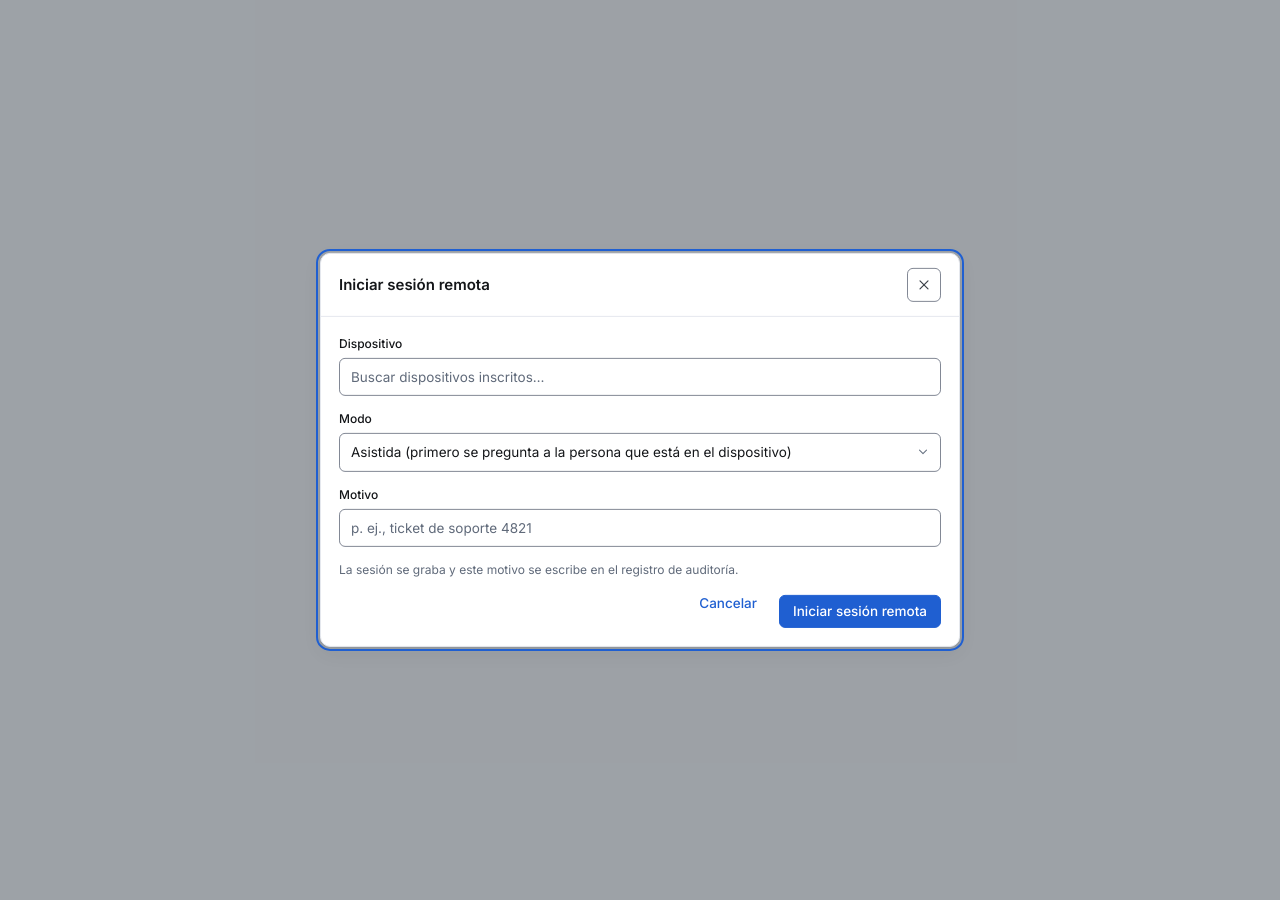
Test: the Start session dialog, in Spanish › confirms before starting on a device that cannot answer
The width and height of the screenshot is (1280, 900).
Click the dropdown labelled "Dispositivo": (640, 377) x1=339 y1=358 x2=941 y2=396
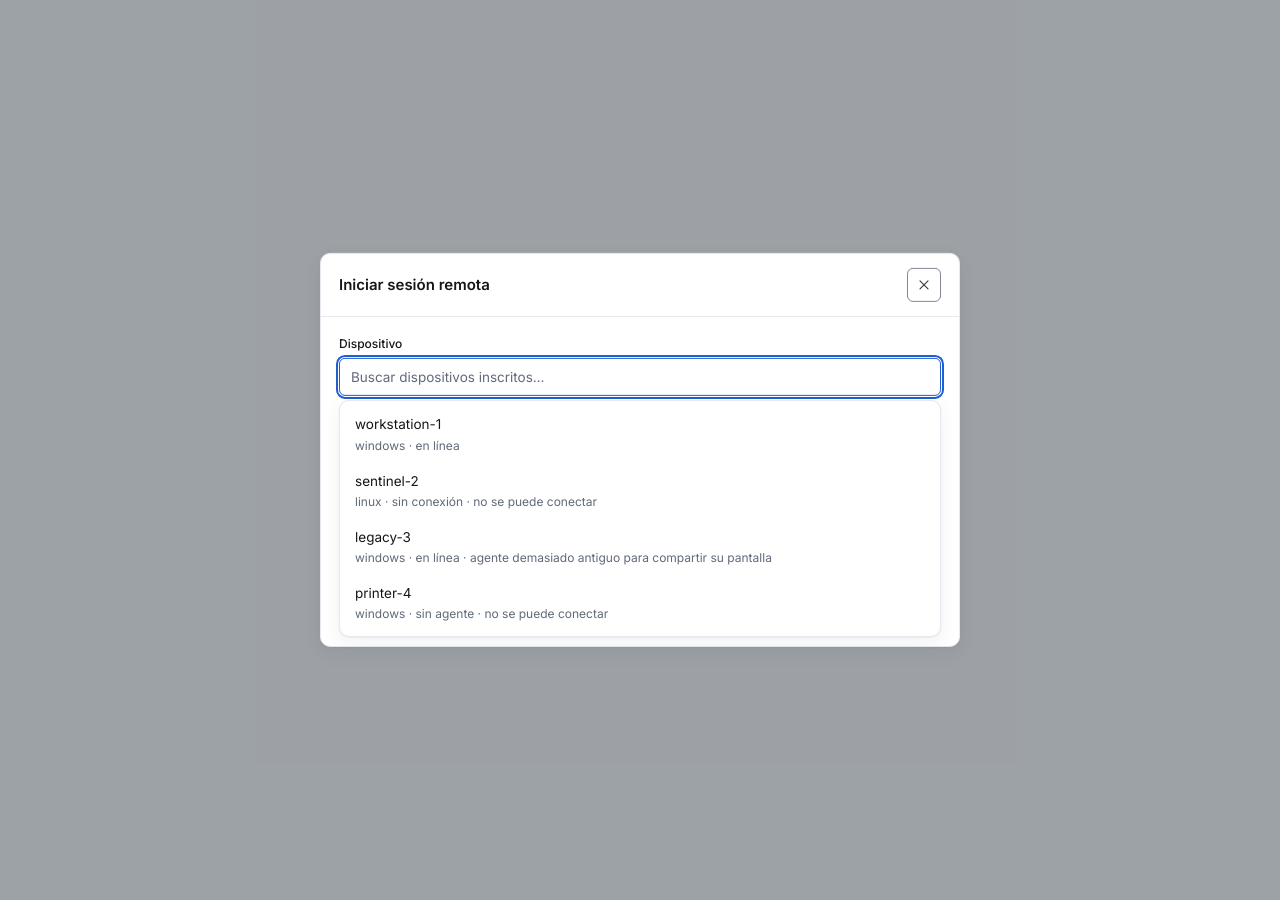
Click the option "sentinel-2 linux · sin conexión · no se puede conectar": (387, 480) x1=345 y1=462 x2=935 y2=519
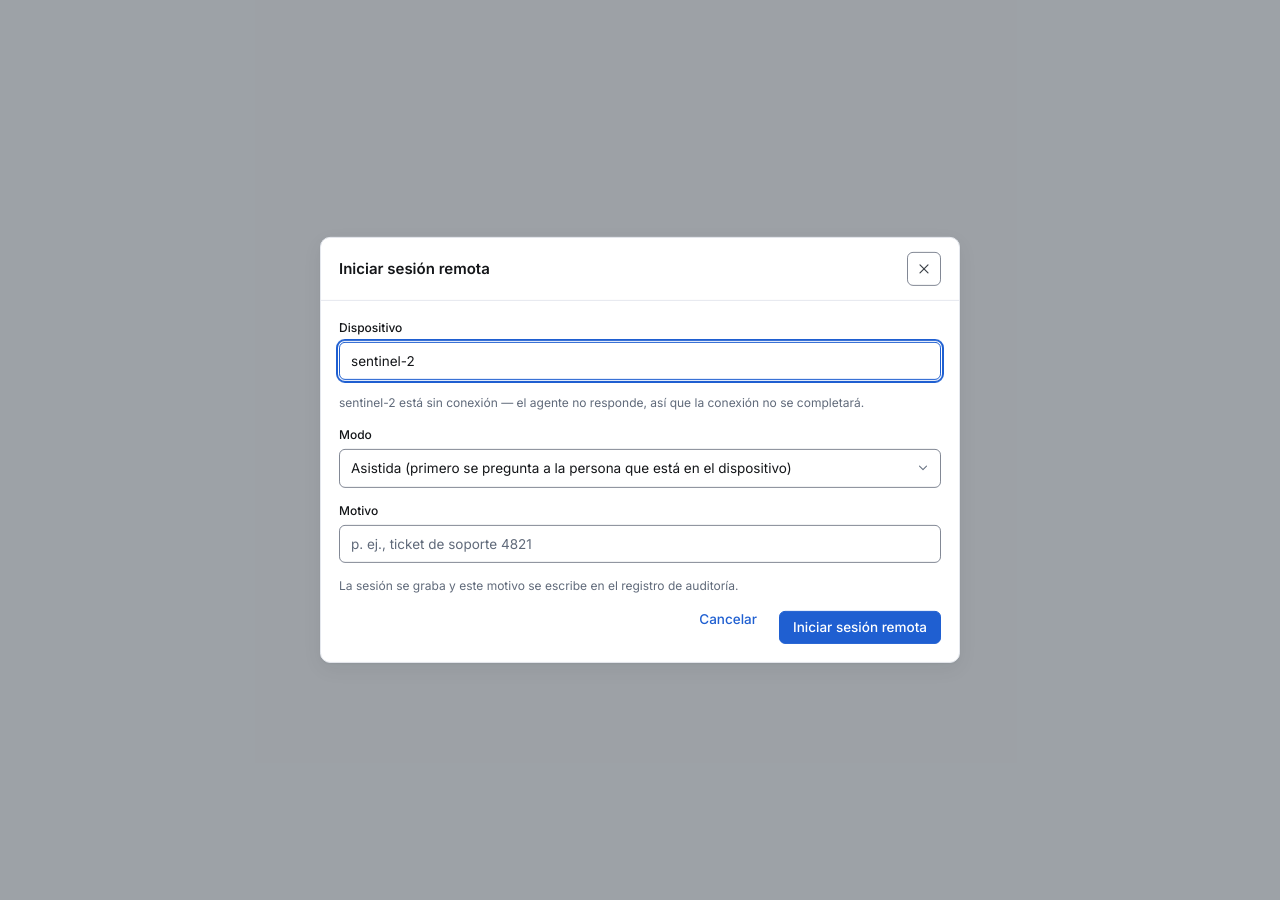
In the field labelled "Motivo": (640, 544) x1=339 y1=524 x2=941 y2=563, type "INC-4821"
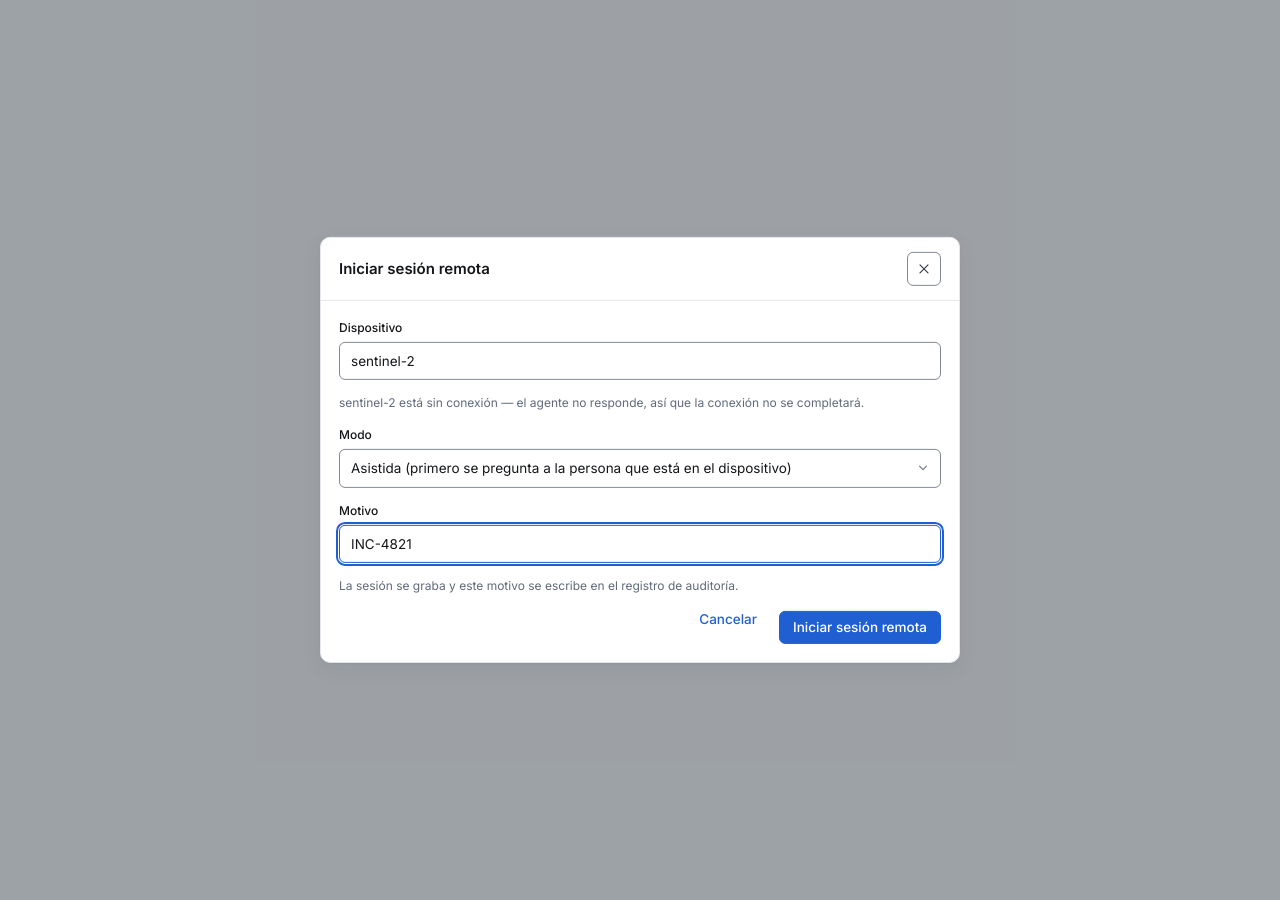
Check: the message shows "sentinel-2 está sin conexión — el agente no responde, así que la conexión no se completará.", box x1=339 y1=395 x2=864 y2=410
Click the button "Iniciar sesión remota": (860, 627) x1=779 y1=611 x2=941 y2=644
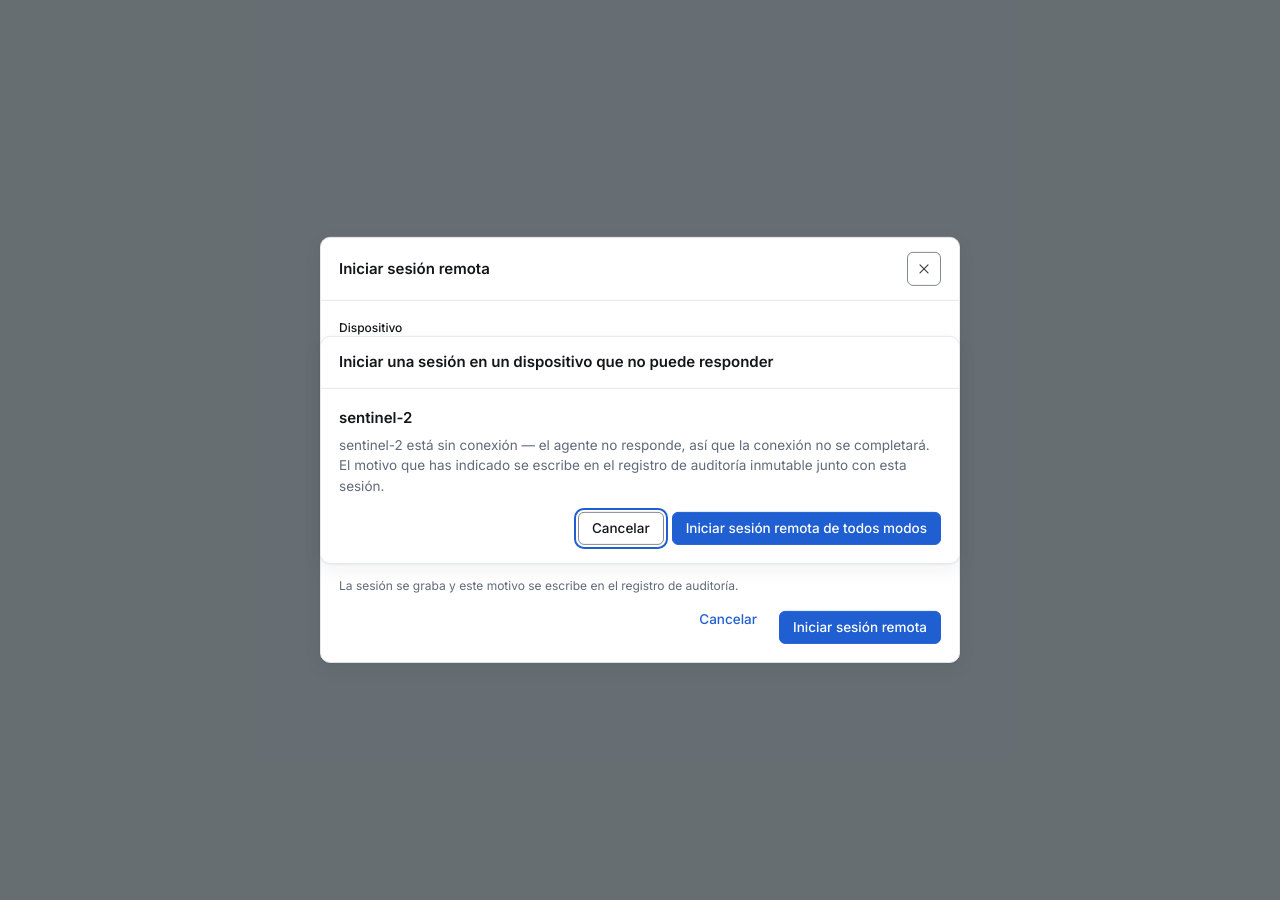
Check: the button "Iniciar sesión remota de todos modos" is shown, box x1=672 y1=512 x2=941 y2=545
